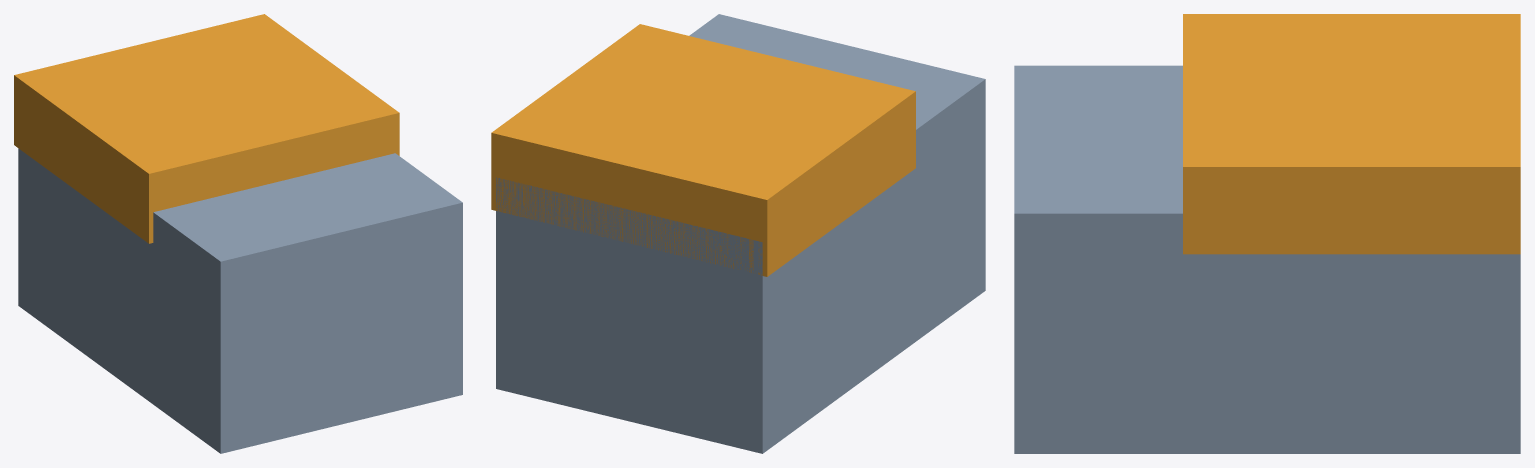
The model's file is boots-3.obj.
The picture shows the model from 3 angles, left to right: view 1: azimuth 30°, elevation 25°; view 2: azimuth 150°, elevation 25°; view 3: azimuth 270°, elevation 25°; orthographic projection. The views are drawn at different scales.
Size of the model in its own units: 0.3 by 0.265 by 0.42.
